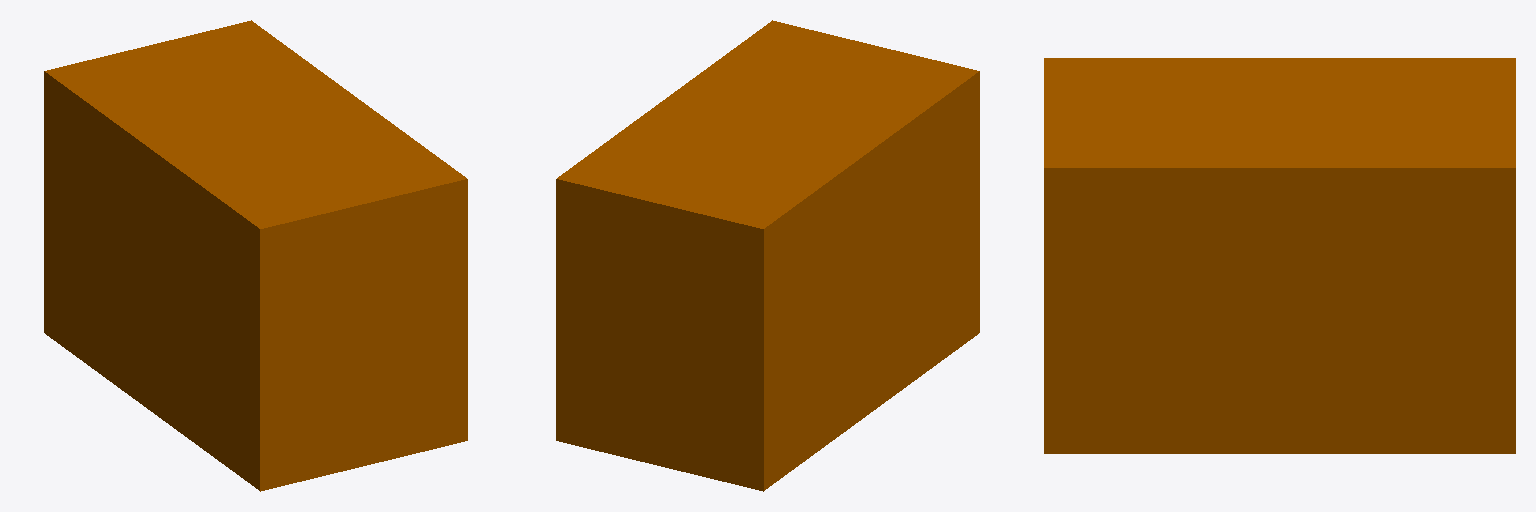
robot.urdf — lite6_table:
<?xml version="1.0" ?>

<robot name="lite6_table">

  <material name="brown">
    <color rgba="0.7 0.4 0.0 1.0"/>
    <!--
    <color rgba="0.3 0.1 0.0 1.0"/>
    -->
  </material>

  <link name="world"/>

  <!-- Table represented as a box of size 24" x 40" x 29" -->
  <link name="link_lite6_table">
    <visual>
      <geometry>
        <box size="0.6096 1.1016 0.7366"/>
      </geometry>
      <material name="brown"/>
    </visual>
    <collision>
      <geometry>
        <box size="0.6096 1.1016 0.7366"/>
      </geometry>
    </collision>
  </link>

  <link name="link_lite6_position"/>

  <joint name="joint_world_to_lite6_table" type="fixed">
    <parent link="world"/>
    <child link="link_lite6_table"/>
    <origin xyz="0 0 0.3683" rpy="0 0 0"/>
  </joint>

  <!--
  Robot is placed centered in y, but on top of the table (so z=height/2) and
  pushed back such that the mid point of the robot's link_base is 5" from the
  back of the table (x=-7" as the half x width is 12").
  -->
  <joint name="joint_lite6_table_to_lite6_position" type="fixed">
    <parent link="link_lite6_table"/>
    <child link="link_lite6_position"/>
    <origin xyz="-0.1778 0 0.3683" rpy="0 0 0"/>
  </joint>

</robot>

--- Facts derived from the render (not from the file) ---
3 views of the same robot in one strip: view 1: azimuth 30°, elevation 25°; view 2: azimuth 150°, elevation 25°; view 3: azimuth 270°, elevation 25° (orthographic).
Model lite6_table with 3 links and 2 joints (2 fixed), rooted at world, posed every joint at zero.
Links seen in each view (by area): view 1: link_lite6_table; view 2: link_lite6_table; view 3: link_lite6_table.
Boxes of the visible links, <box> form: link_lite6_table: <box>44,20,467,491</box>; link_lite6_table: <box>556,20,979,491</box>; link_lite6_table: <box>1044,58,1515,453</box>.
Size in the robot's own frame: 0.6096 by 1.1 by 0.7366 metres.
Geometry: primitives only (box / cylinder / sphere), no mesh files.